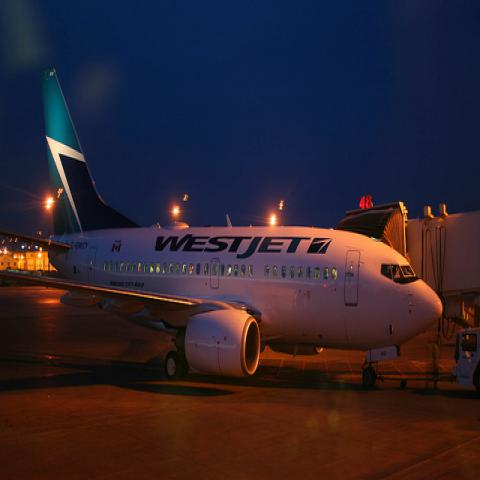truck: (405, 203, 480, 339), (453, 328, 479, 394)
